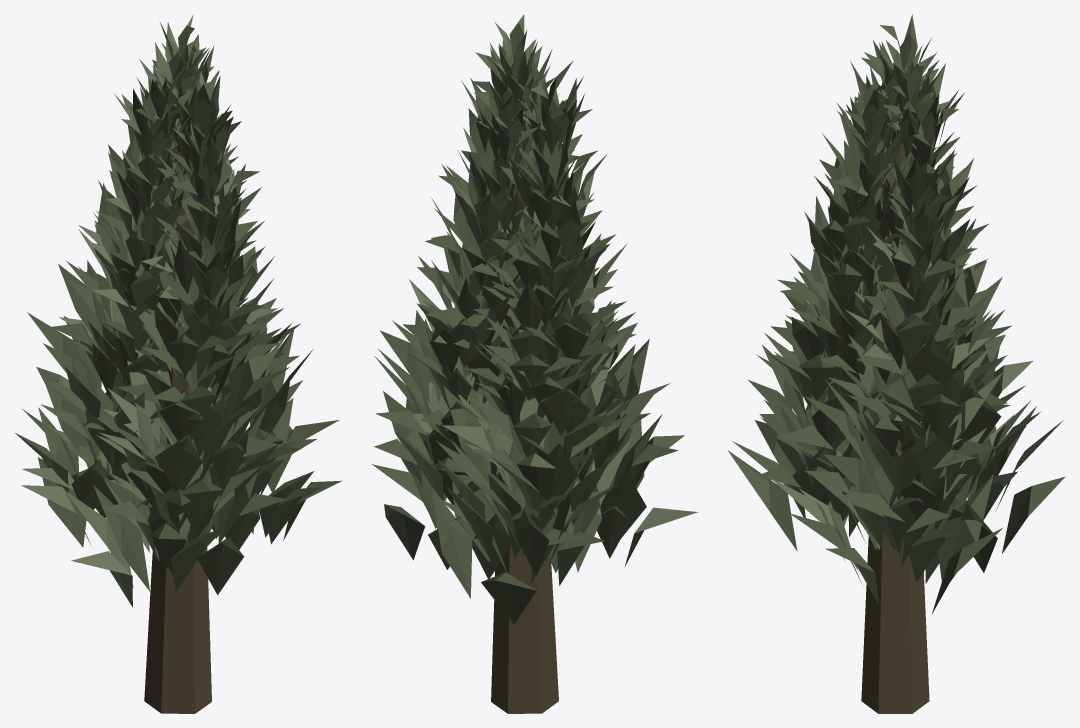
Rendered from cypress.glb.
3 renders of one model, left to right at view 1: azimuth 30°, elevation 25°; view 2: azimuth 150°, elevation 25°; view 3: azimuth 270°, elevation 25°, orthographic.
Visible parts, largest first — view 1: cypress; view 2: cypress; view 3: cypress.
Part boxes in pixels (x1,y1,x2,y2): cypress: (15,14,342,713); cypress: (372,14,698,713); cypress: (727,14,1065,713).
Bounding box in the file's own units: 0.4858 × 1.13 × 0.5068.
